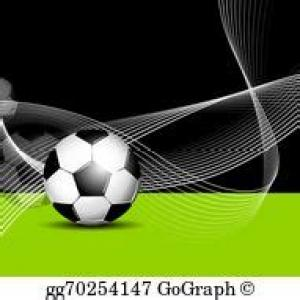Football: (44, 131, 140, 227)
